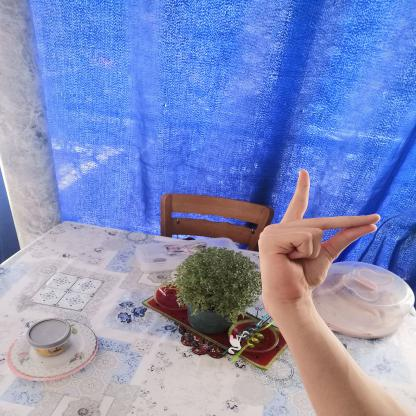TAA: (247, 163, 391, 313)
